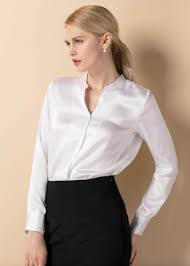F_shirt: (20, 66, 185, 237)
F_tailored skirt: (39, 178, 133, 266)
